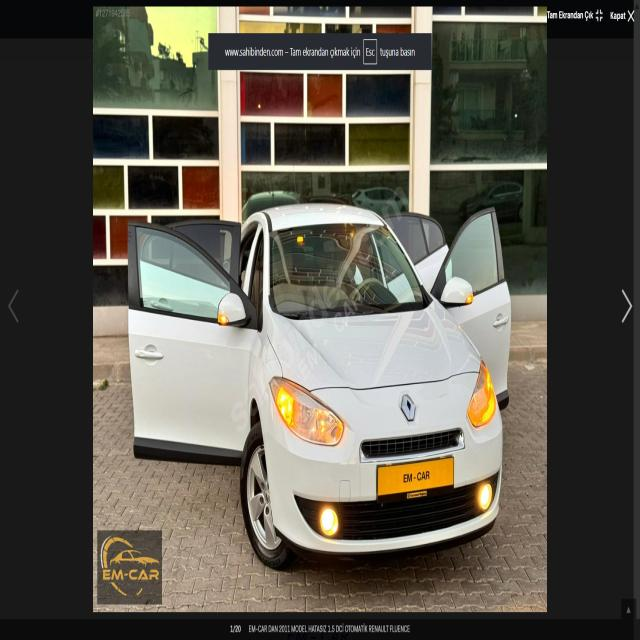renault: (390, 383, 423, 428)
